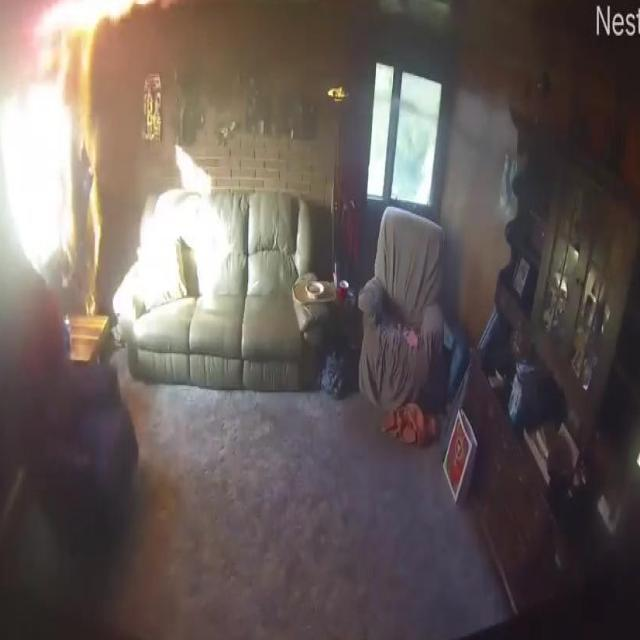smoke: (72, 44, 110, 316), (27, 0, 164, 43)
